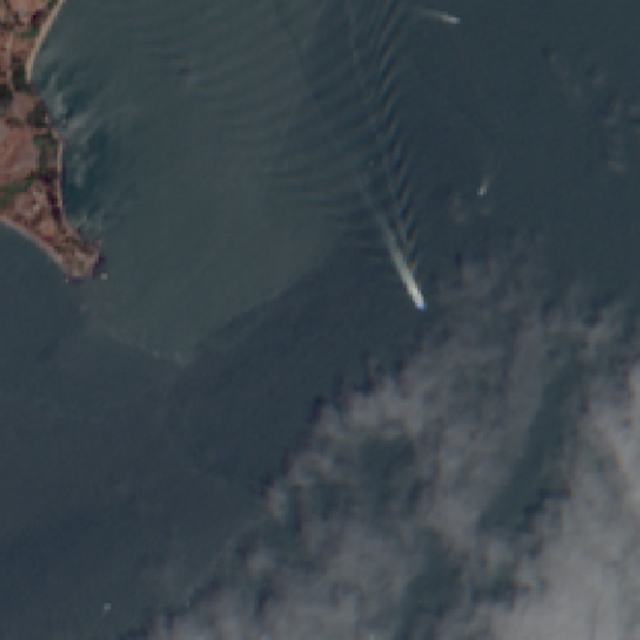wake: (223, 24, 503, 364)
